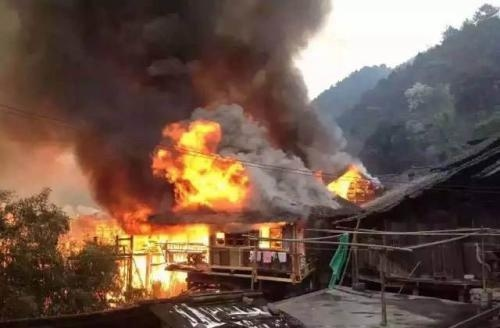fire: (72, 213, 211, 301), (155, 120, 248, 207), (322, 165, 370, 201), (256, 221, 285, 247)
